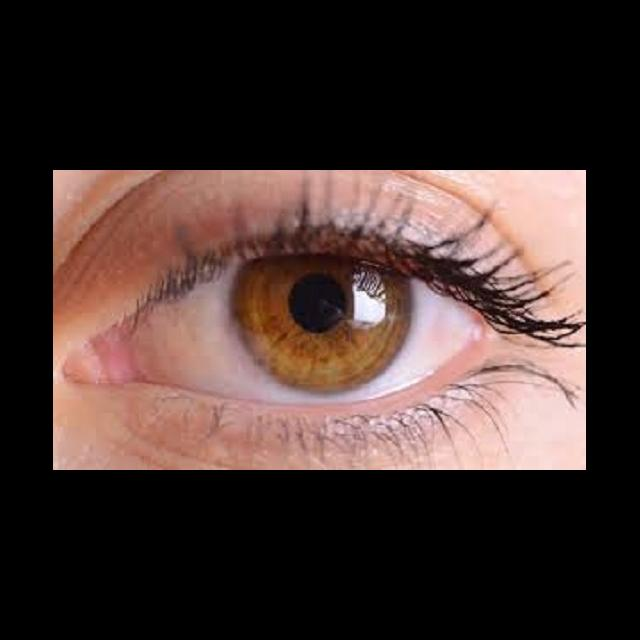eye: (131, 252, 483, 402)
iris: (235, 256, 418, 399)
